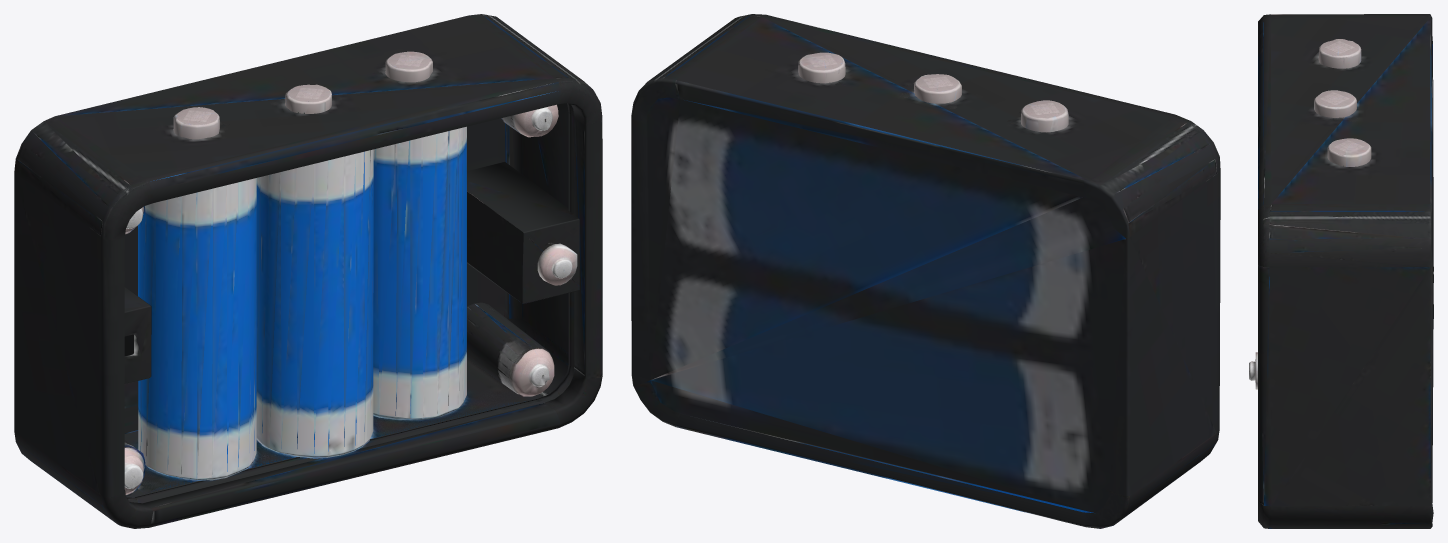
File: battery-pack.glb
3 renders of one model, left to right at view 1: azimuth 30°, elevation 25°; view 2: azimuth 150°, elevation 25°; view 3: azimuth 270°, elevation 25°, orthographic. The views are drawn at different scales.
Bounding box in the file's own units: 0.9512 × 0.6562 × 0.3296.
Materials: 1 (1 with a texture image).
